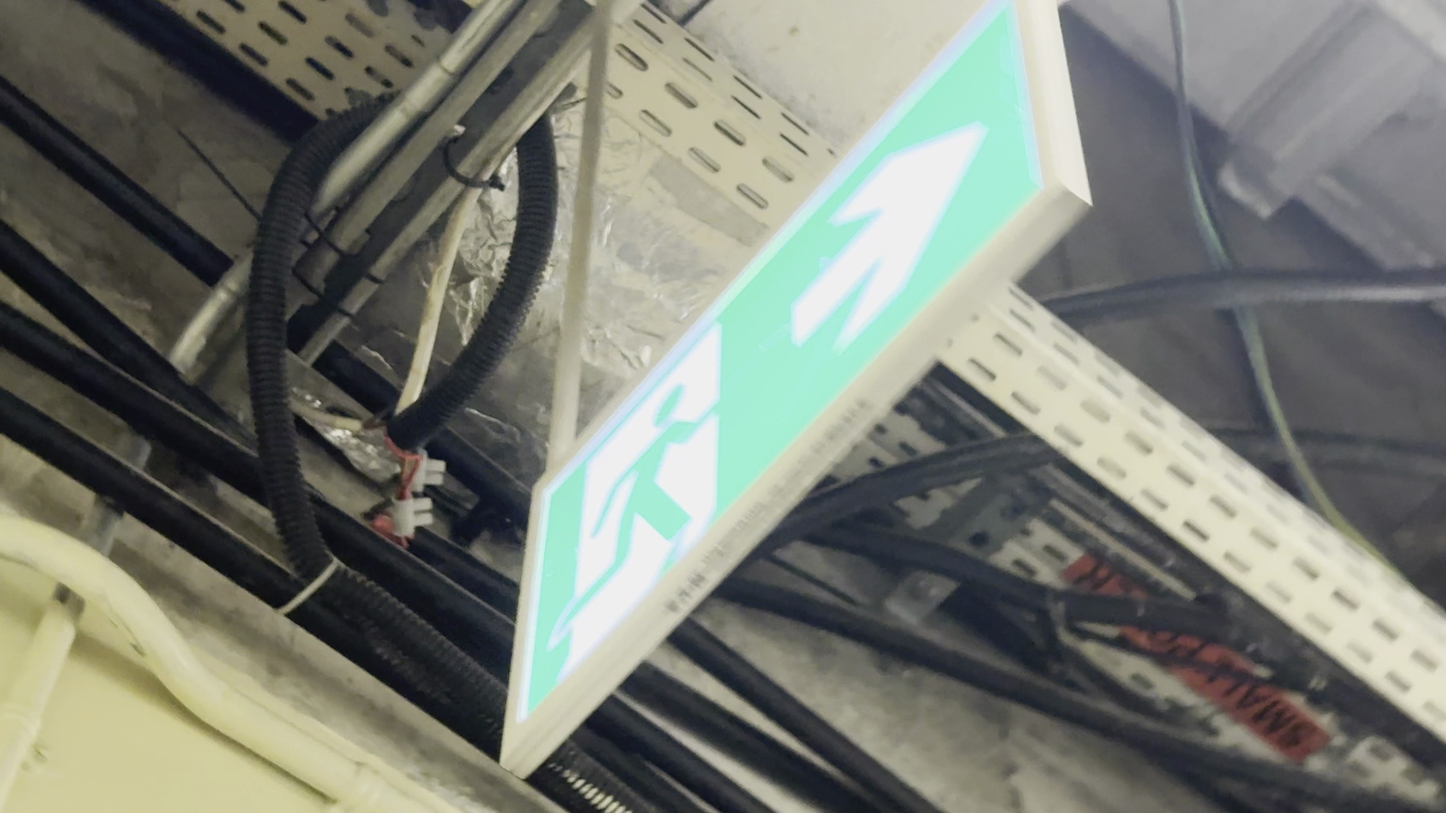emergency_exit: (495, 1, 1095, 780)
